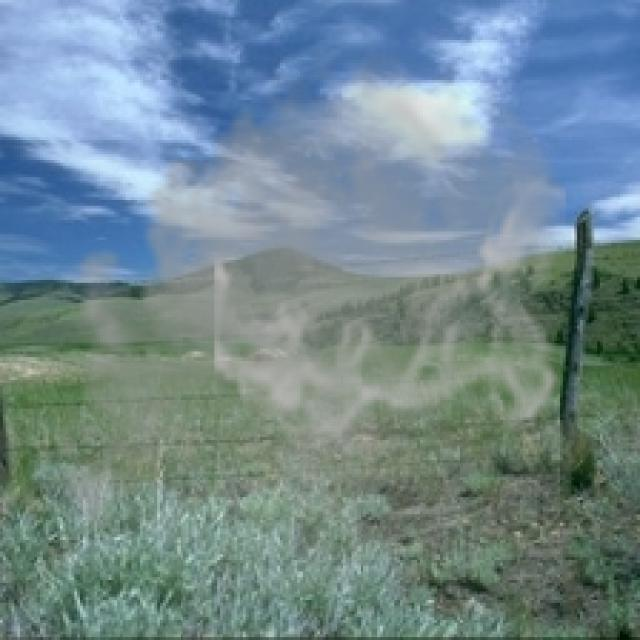Smoke: (39, 32, 572, 594)
